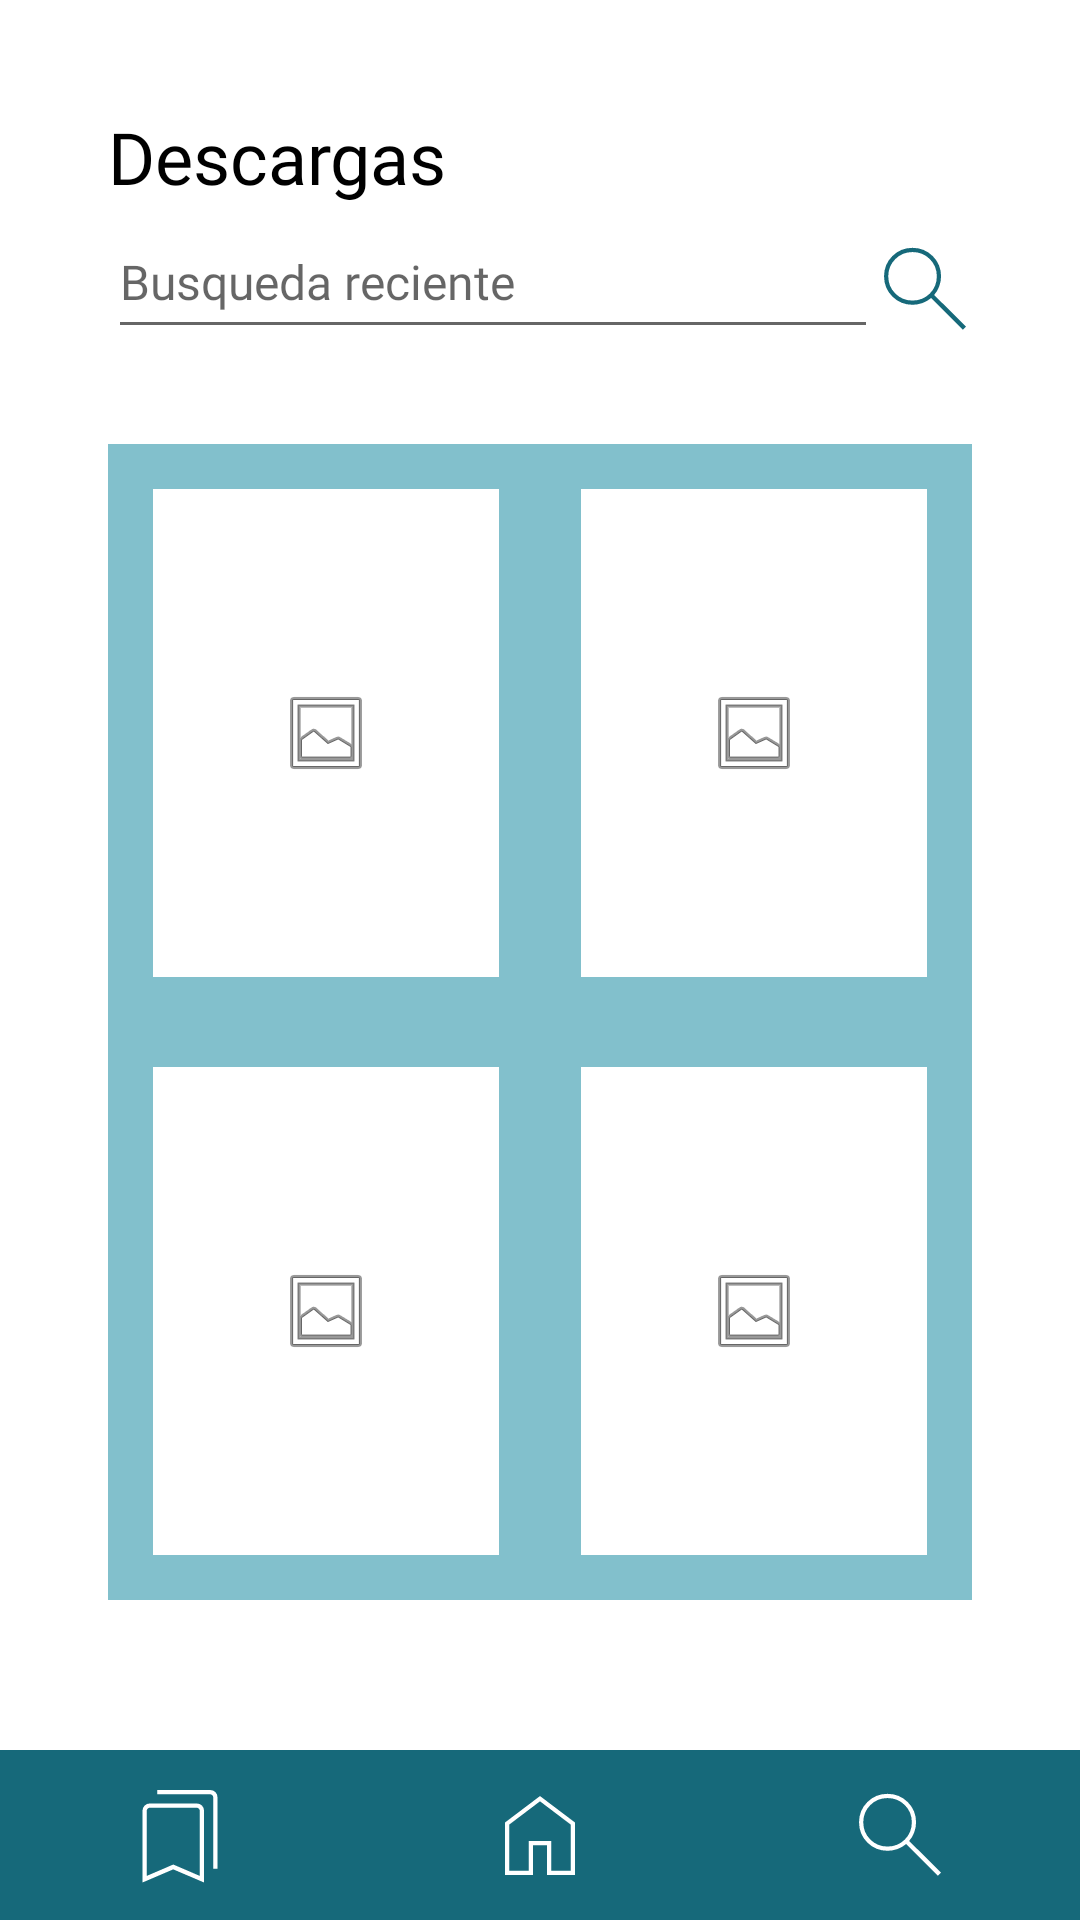

Icons on this 1080 × 1920 Android screen, each with the point to tap as point (x, y):
bookmarks: point (180, 1836)
home: point (540, 1835)
search: point (925, 288), point (900, 1834)
